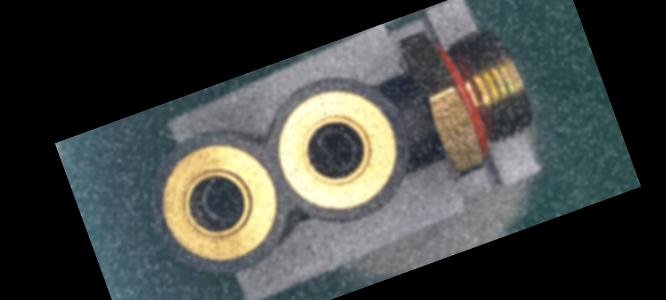off-centered: (192, 165, 252, 231), (311, 119, 367, 182)
